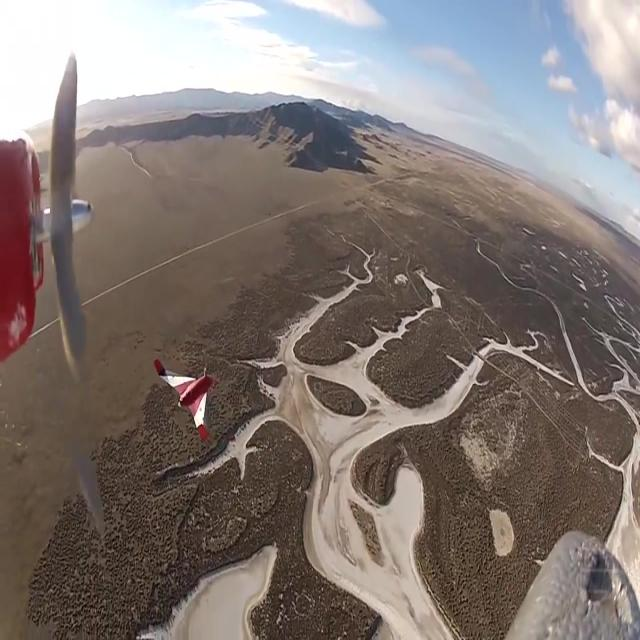iha: (153, 388, 216, 415)
